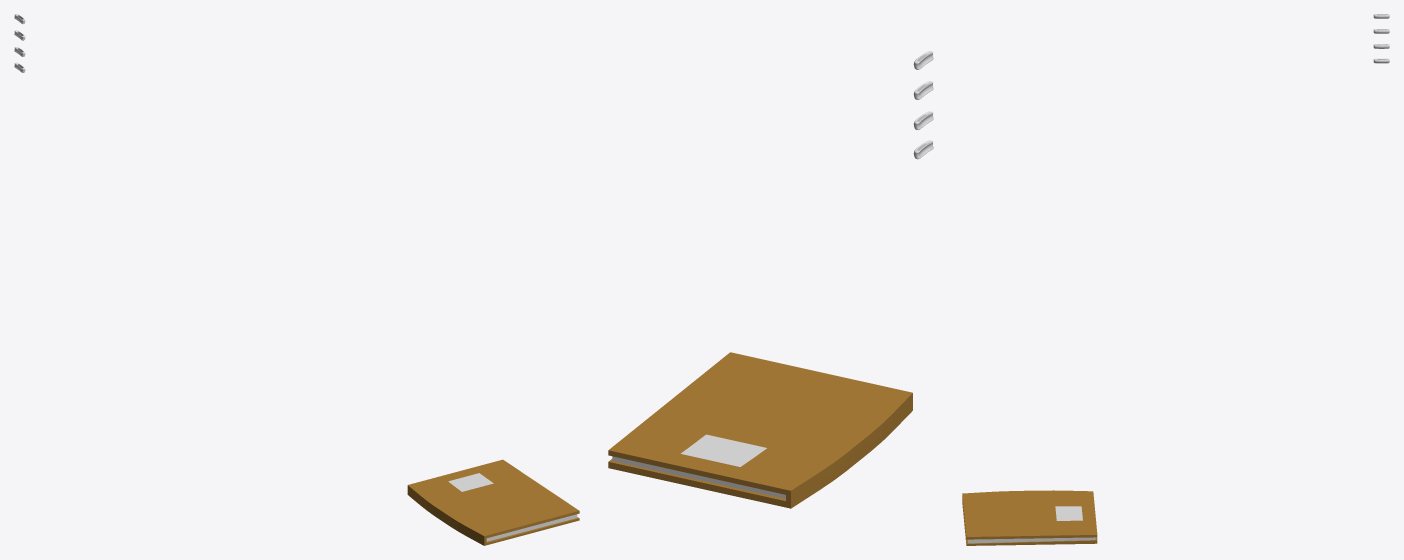
Rendered from buku 2_Scene.fbx.
The picture shows the model from 3 angles, left to right: view 1: azimuth 30°, elevation 25°; view 2: azimuth 150°, elevation 25°; view 3: azimuth 270°, elevation 25°; orthographic projection. The views are drawn at different scales.
Visible parts, largest first — view 1: Cube.043; view 2: Cube.043; view 3: Cube.043.
Boxes of the visible parts, x1,y1,x2,y2 form: Cube.043: (407, 459, 579, 545); Cube.043: (608, 352, 912, 508); Cube.043: (962, 490, 1097, 545).
Bounding box in the file's own units: 150 × 179 × 181.
